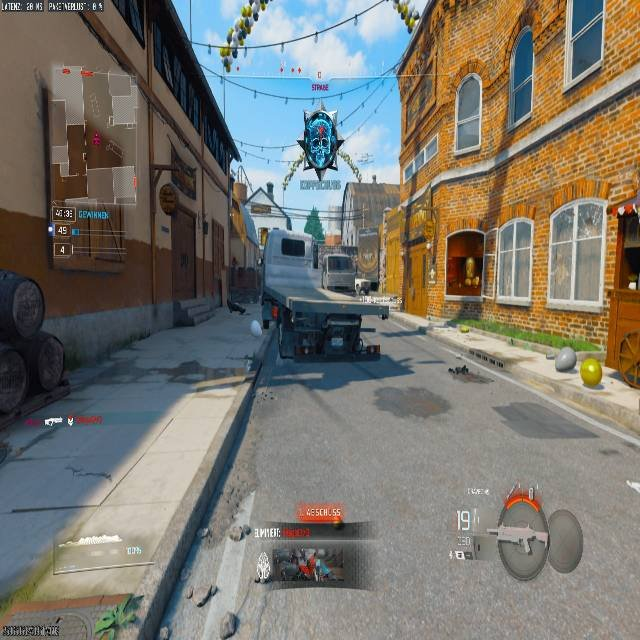head: (0, 262, 45, 341)
player: (301, 106, 342, 175)
